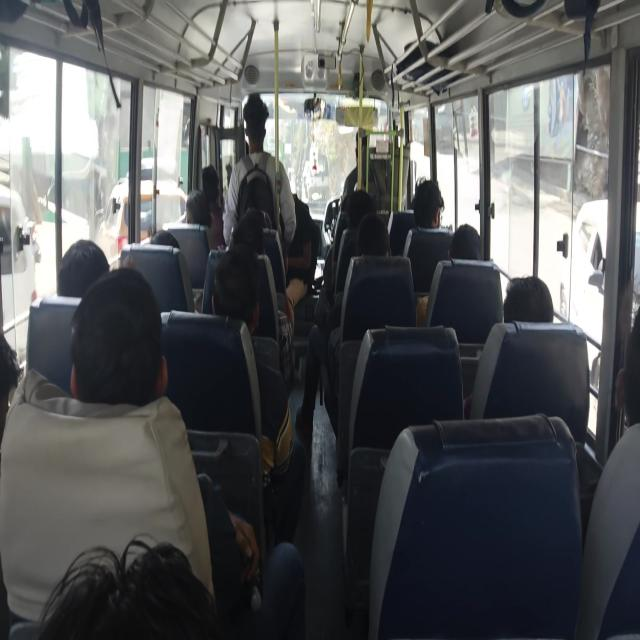person: (1, 264, 304, 638), (210, 244, 306, 544), (576, 304, 640, 638), (295, 189, 376, 442), (36, 534, 219, 639), (462, 274, 554, 418), (222, 92, 296, 263), (416, 223, 482, 326), (402, 177, 452, 257), (56, 238, 110, 298), (502, 274, 554, 323), (0, 328, 21, 446), (202, 164, 225, 250), (411, 177, 445, 230), (449, 223, 483, 260), (185, 188, 211, 226)
